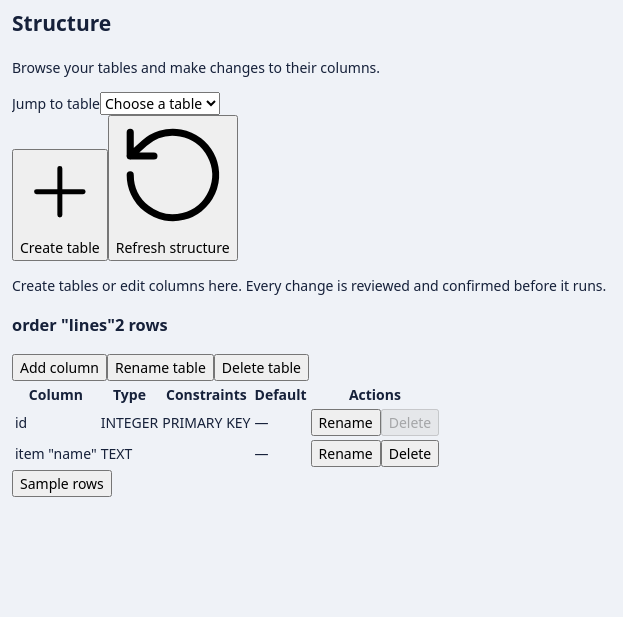
Test case: manual structure controls › hides and restores cached samples, refreshes explicitly, and invalidates them after a structure refresh
The width and height of the screenshot is (623, 617).
Step 1. Click the button "Sample rows" → point(62, 483), box [12,470,112,496]
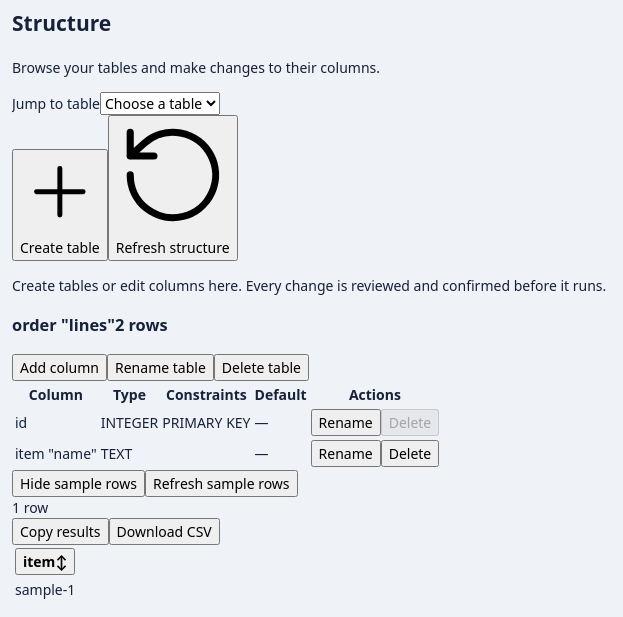
expect the text "sample-1" is shown: met, box [14,578,76,600]
expect the button "Hide sample rows" is expanded: met
Step 2. Click the button "Hide sample rows" → point(78, 483), box [12,470,145,496]
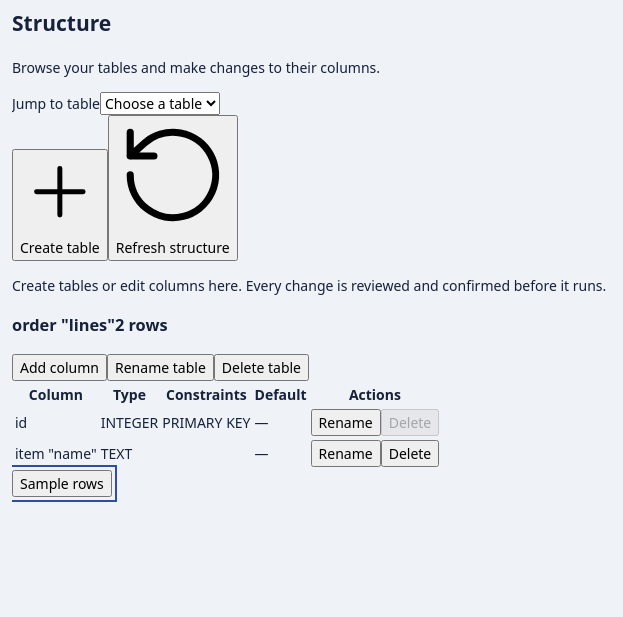
expect the text "sample-1" is gone: met
expect the button "Refresh sample rows" is gone: met
Step 3. Click the button "Sample rows" → point(62, 483), box [12,470,112,496]
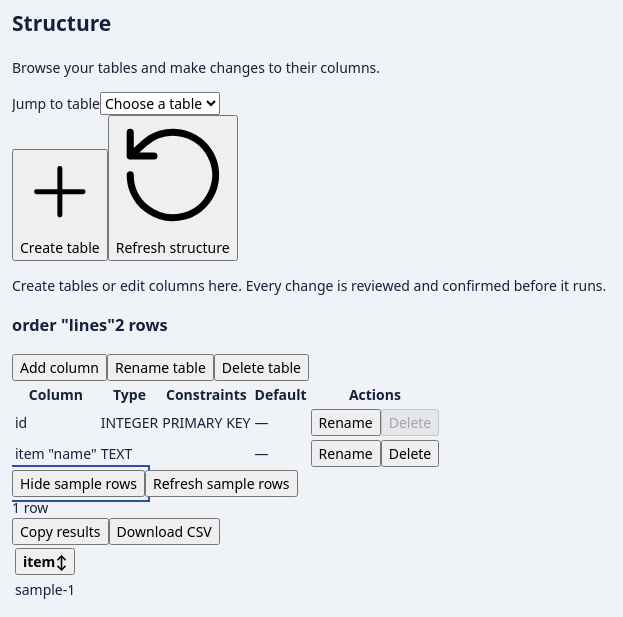
expect the text "sample-1" is shown: met, box [14,578,76,600]
Step 4. Click the button "Refresh sample rows" → point(221, 483), box [145,470,298,496]
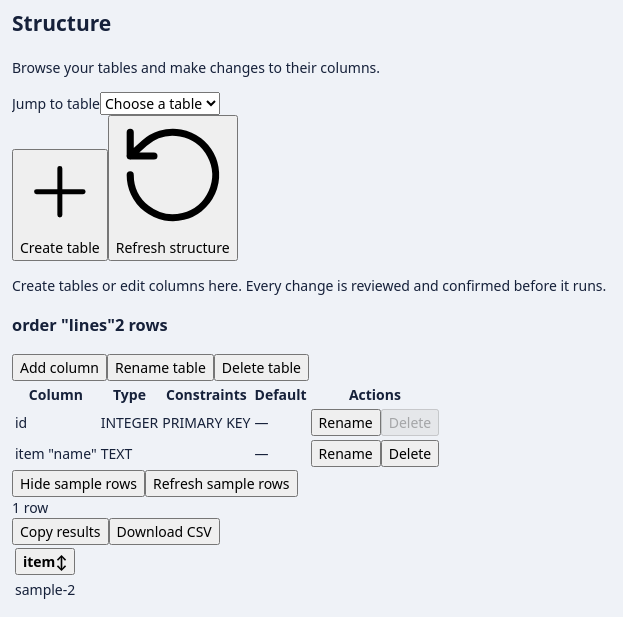
expect the text "sample-2" is shown: met, box [14,578,76,600]
expect the text "sample-1" is gone: met
Step 5. Click the button "Refresh structure" → point(173, 188), box [108,115,238,261]
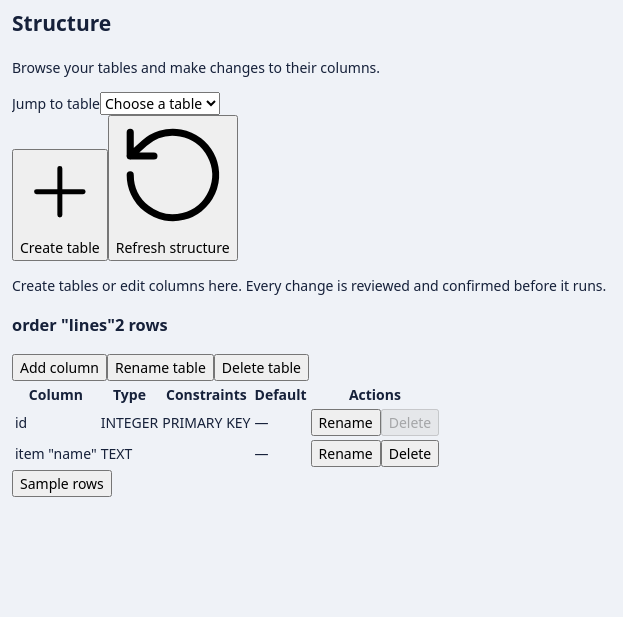
expect the text "sample-2" is gone: met
Step 6. Click the button "Sample rows" → point(62, 483), box [12,470,112,496]
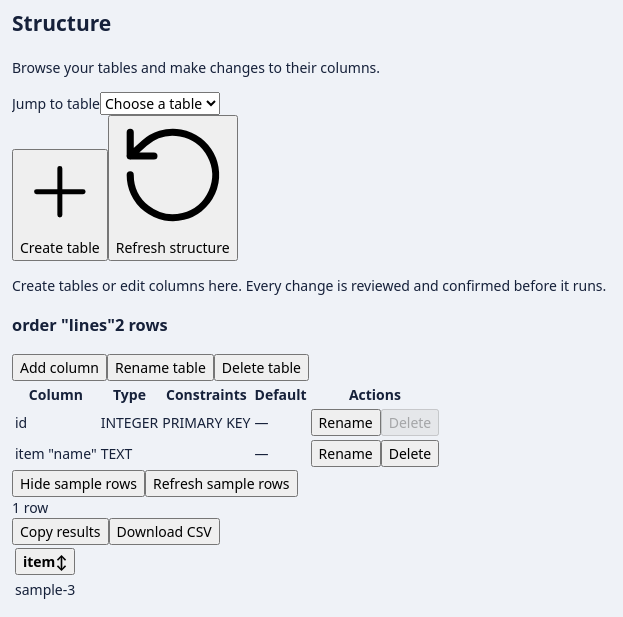
expect the text "sample-3" is shown: met, box [14,578,76,600]
